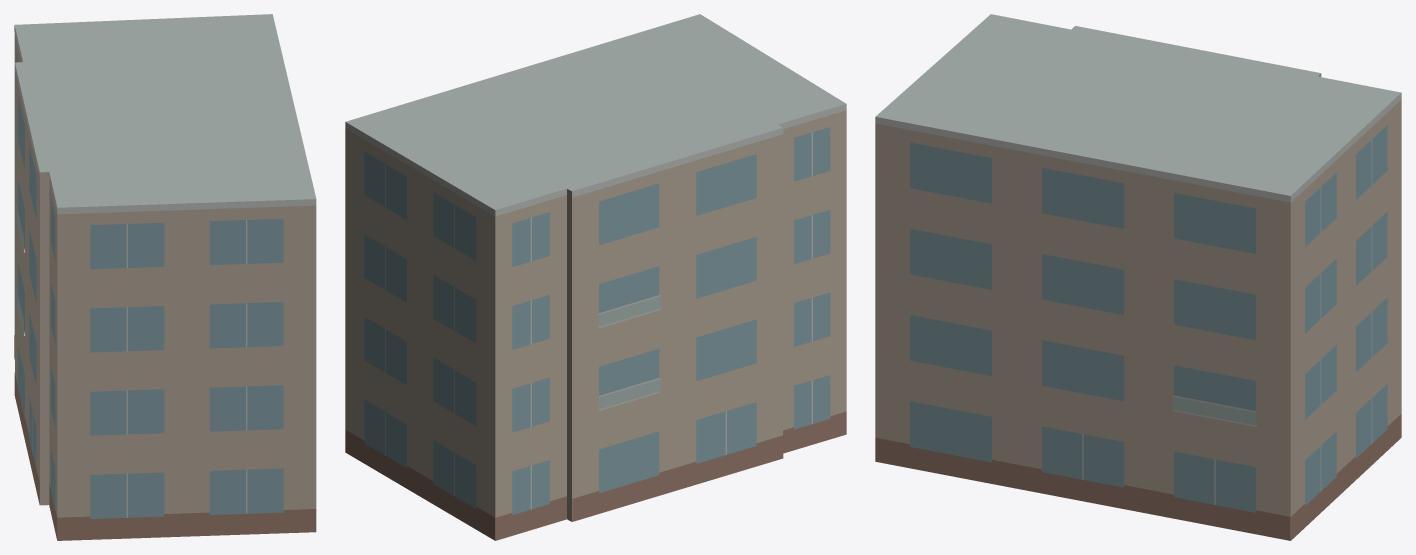
Rendered from survey-upis-32667446.glb.
The picture shows the model from 3 angles, left to right: view 1: azimuth 30°, elevation 25°; view 2: azimuth 150°, elevation 25°; view 3: azimuth 270°, elevation 25°; orthographic projection. The views are drawn at different scales.
Visible parts, largest first — view 1: survey-upis-32667446.tmp; view 2: survey-upis-32667446.tmp; view 3: survey-upis-32667446.tmp.
Part boxes in pixels (x1=…): survey-upis-32667446.tmp: x1=14, y1=14, x2=316, y2=540; survey-upis-32667446.tmp: x1=345, y1=14, x2=846, y2=540; survey-upis-32667446.tmp: x1=875, y1=14, x2=1401, y2=540.
Bounding box in the file's own units: 14.27 × 12.6 × 17.43.
